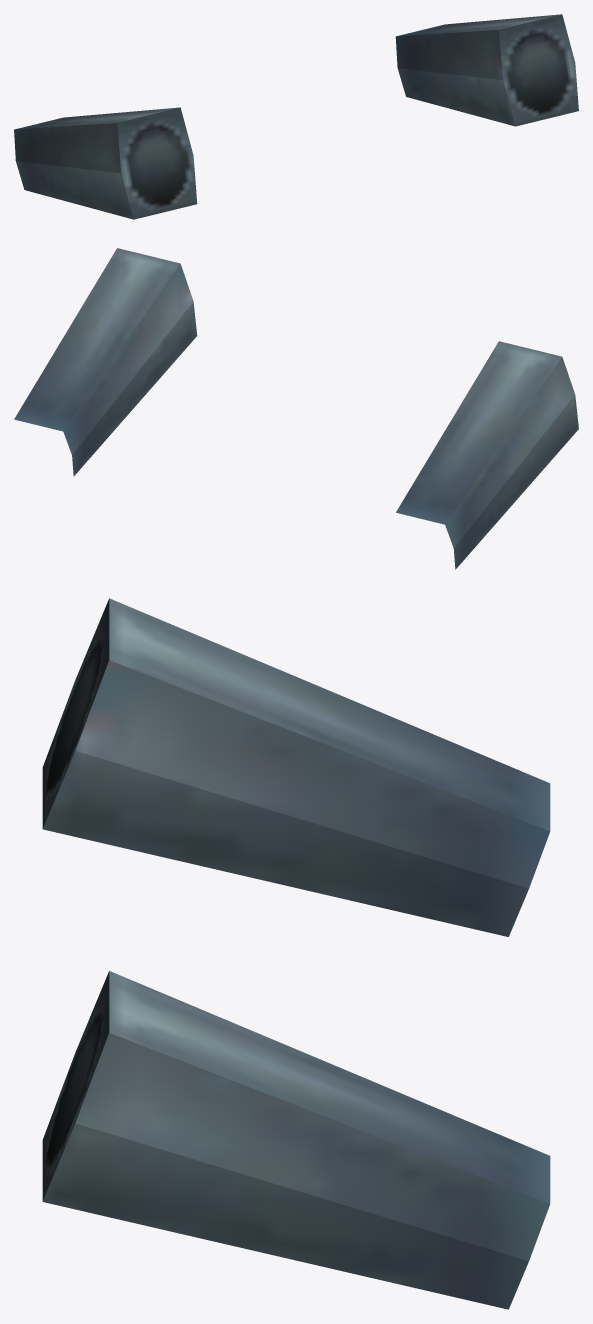
The model's file is Truck 1 Thruster.glb.
3 views of the same model, one above another, from view 1: azimuth 30°, elevation 25°; view 2: azimuth 150°, elevation 25°; view 3: azimuth 270°, elevation 25° (orthographic). The views are drawn at different scales.
Parts seen in each view (by area): view 1: thrusters; view 2: thrusters; view 3: thrusters.
Boxes of the visible parts, bbox=[...] form: thrusters: bbox=[14, 14, 578, 219]; thrusters: bbox=[14, 248, 578, 569]; thrusters: bbox=[42, 598, 550, 1309].
Bounding box in the file's own units: 1.59 × 0.4761 × 0.7715.
1 material, 1 textured.
